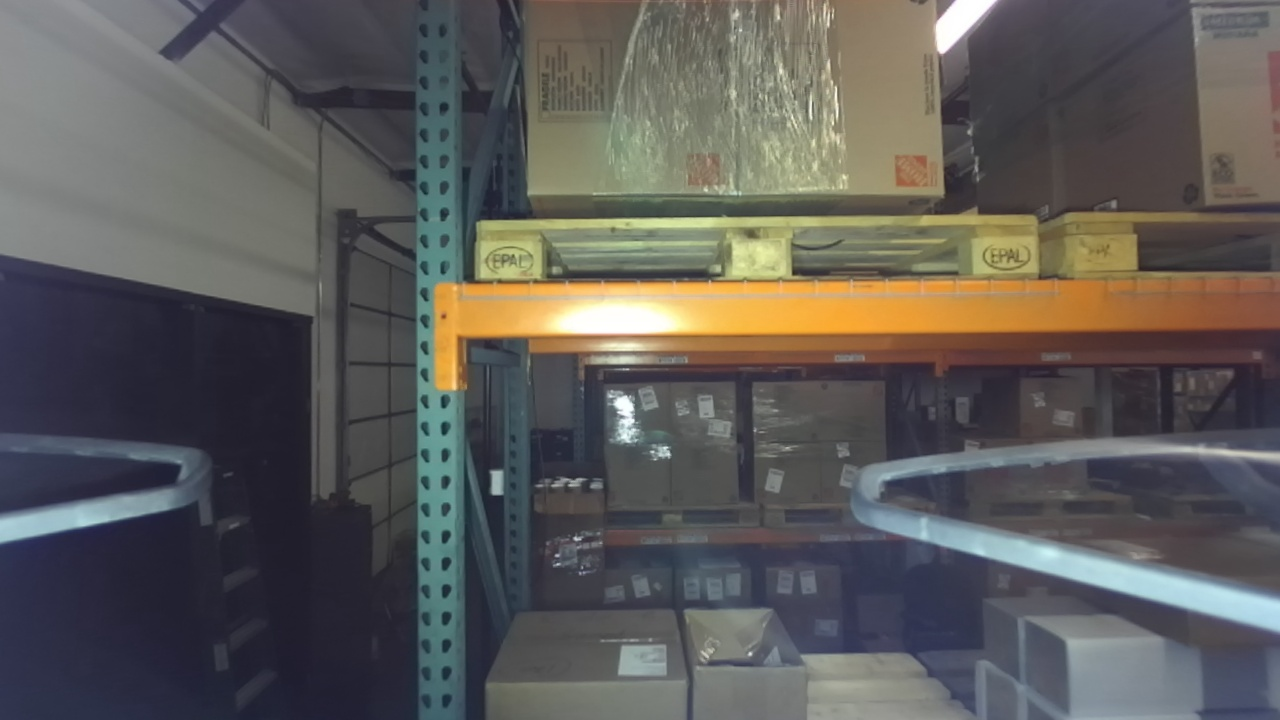box: (493, 1, 745, 228), (721, 2, 955, 214)
